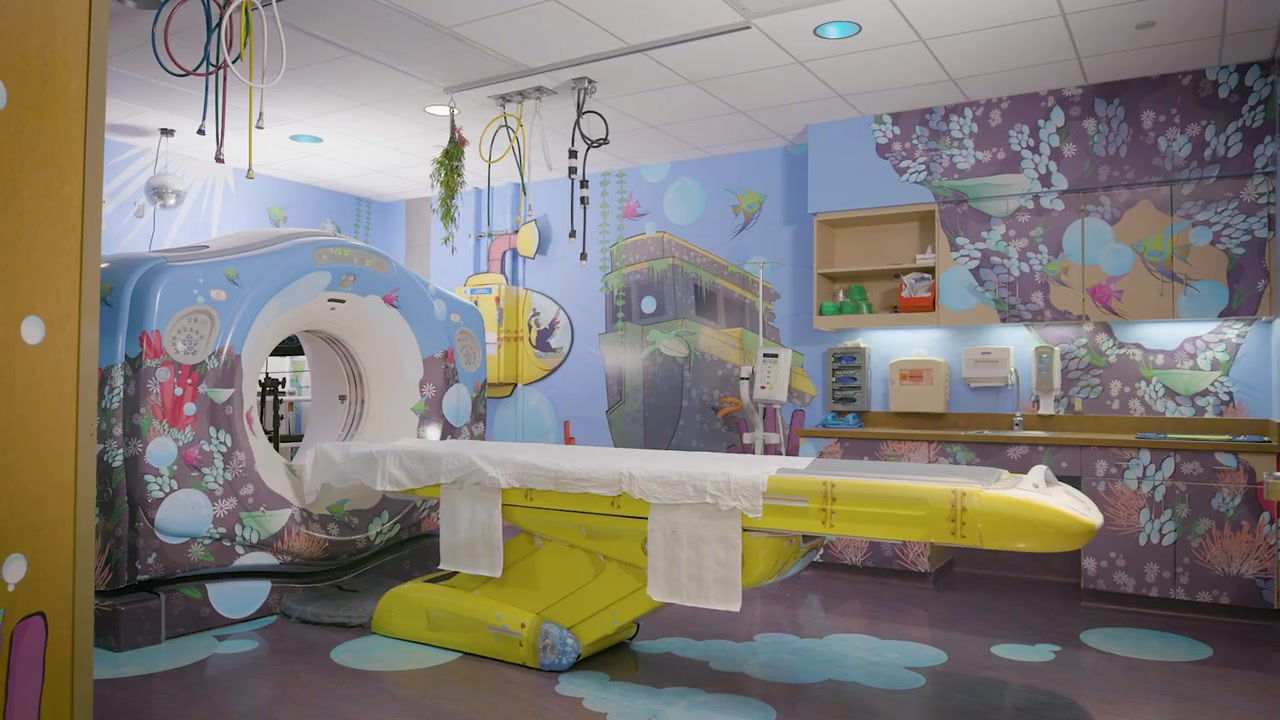cabinet: (806, 178, 1280, 327)
countertop: (795, 426, 1280, 444)
dispenser: (825, 346, 872, 412), (962, 346, 1013, 387), (1032, 344, 1061, 415)
faucet: (1008, 368, 1024, 431)
handle: (1114, 459, 1141, 467), (1180, 271, 1188, 297), (1158, 270, 1165, 297), (1211, 464, 1237, 471), (1014, 278, 1021, 301), (993, 278, 1000, 301)
infusion_pump: (751, 345, 793, 408)
iv_pole: (734, 258, 789, 455)
medical_waste_container: (887, 358, 949, 414)
sink: (958, 428, 1055, 443)
xray_bed: (303, 439, 1102, 673)
xray_machine: (95, 228, 487, 655)
